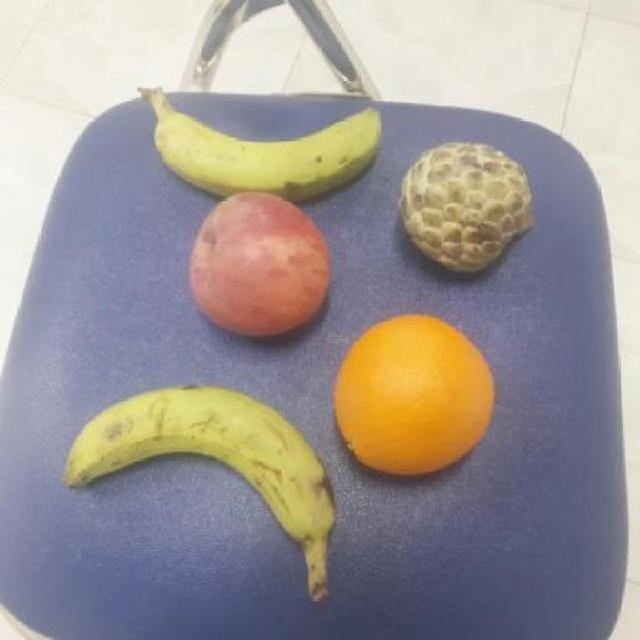apple: (182, 187, 336, 341)
banana: (57, 376, 343, 552), (147, 94, 384, 198)
oren: (326, 314, 500, 481)
sugar apple: (394, 137, 535, 277)
